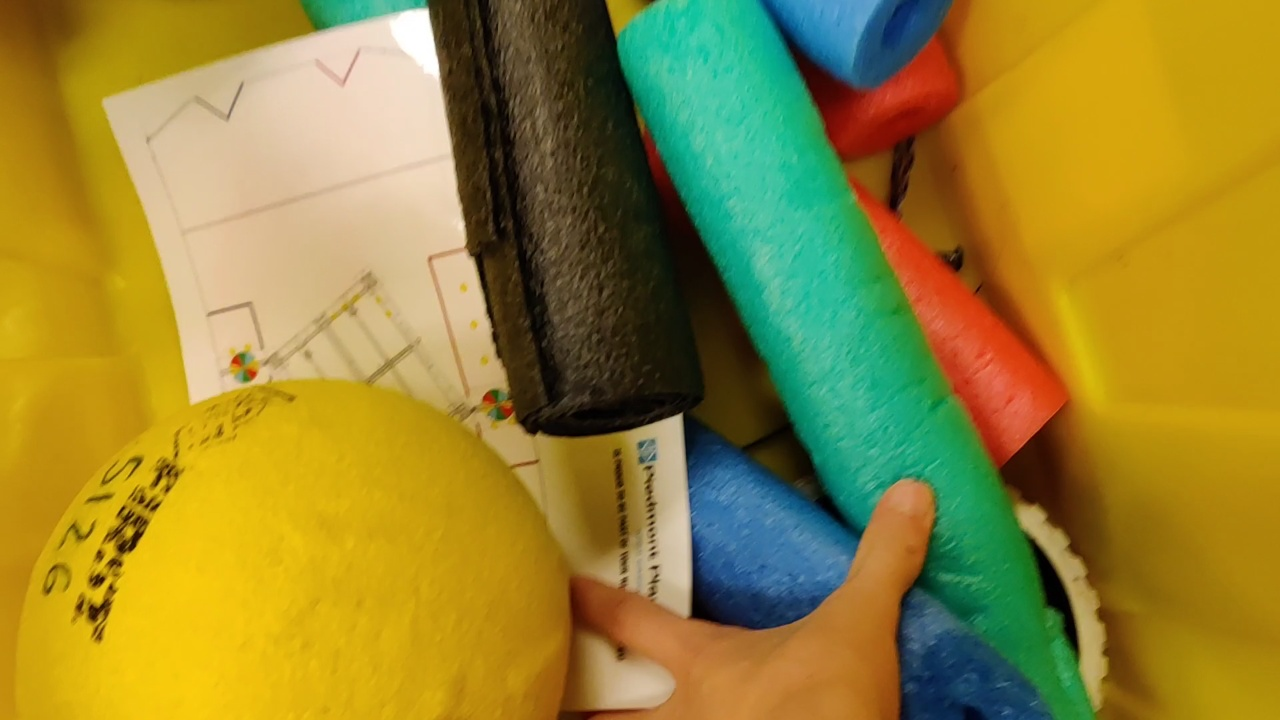Ball: (15, 376, 570, 720)
